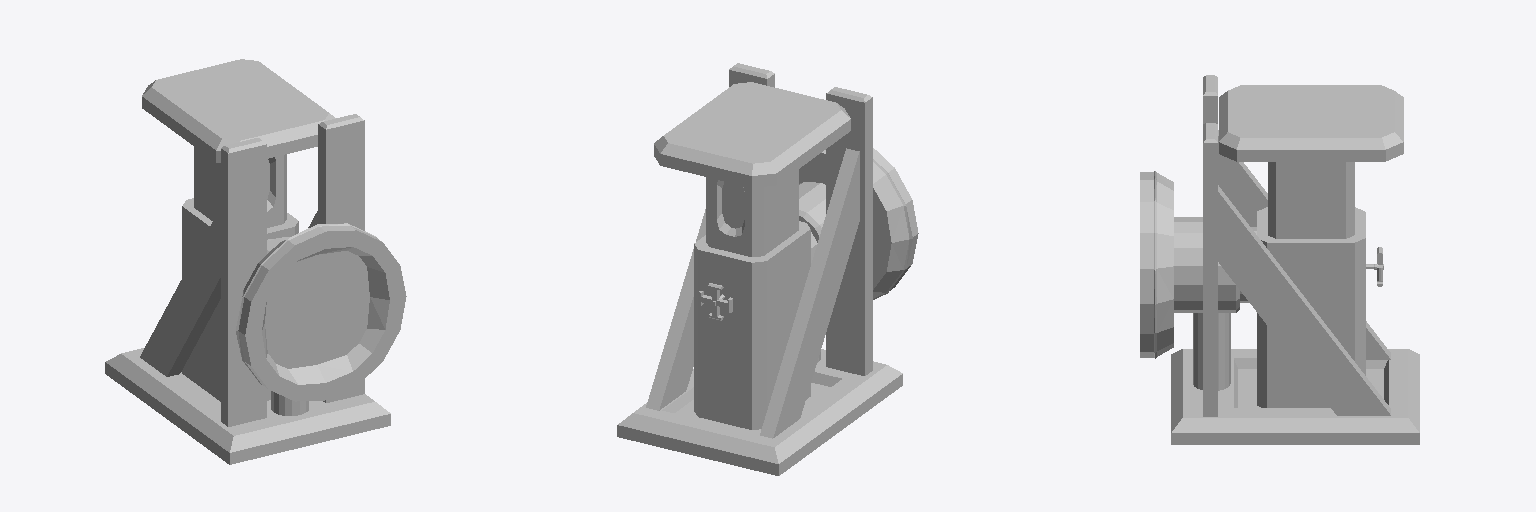
Rendered from Manapump.obj.
The picture shows the model from 3 angles: view 1: azimuth 30°, elevation 25°; view 2: azimuth 150°, elevation 25°; view 3: azimuth 270°, elevation 25°; orthographic projection.
Parts seen in each view (by area): view 1: Cylinder.007; view 2: Cylinder.007; view 3: Cylinder.007.
Part boxes in pixels (bbox=[...]): Cylinder.007: bbox=[105, 59, 406, 464]; Cylinder.007: bbox=[617, 63, 918, 475]; Cylinder.007: bbox=[1140, 75, 1419, 444].
Bounding box in the file's own units: 0.6156 × 1.06 × 0.9.